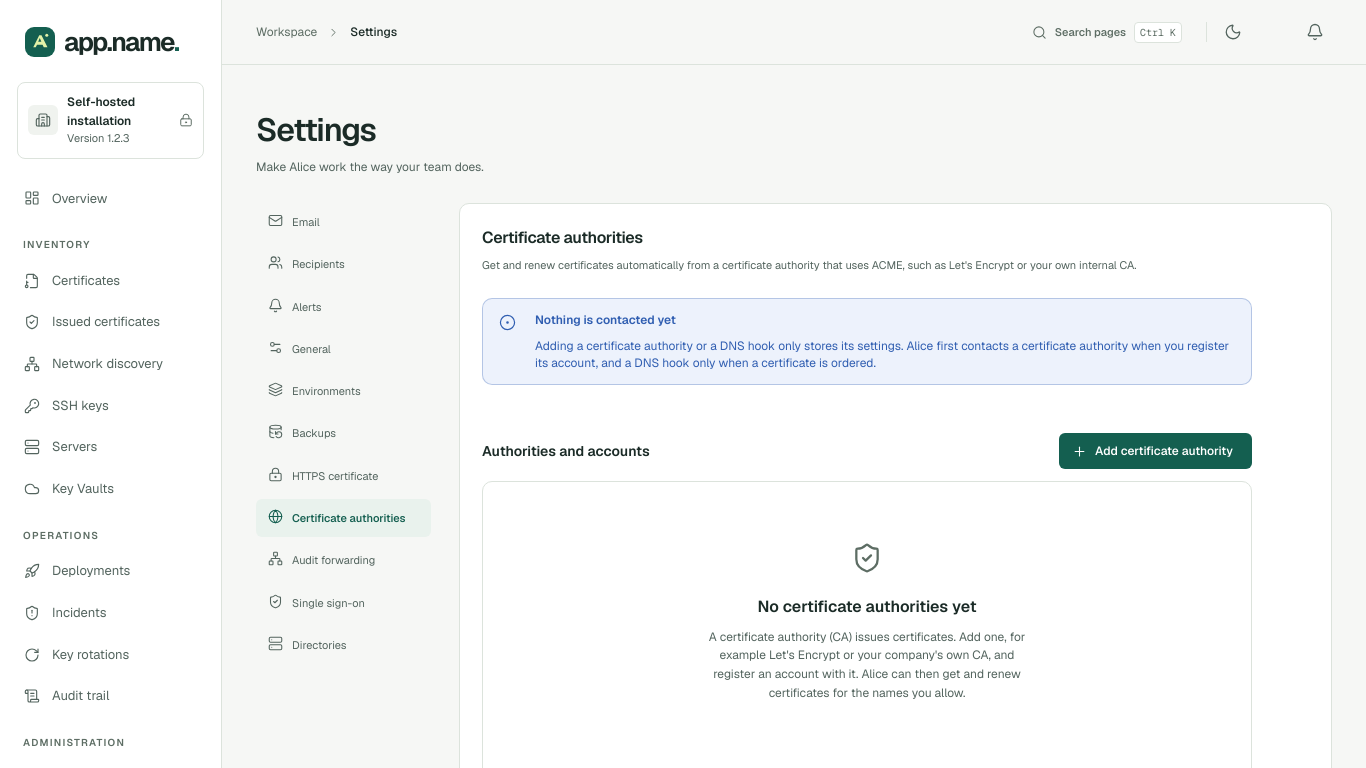
Test case: Certificate authorities settings › shows the refusal ALC-LIC-0001 of a save
Click the button "Add certificate authority" at [1156, 451], box left=1059, top=433, right=1252, bottom=469
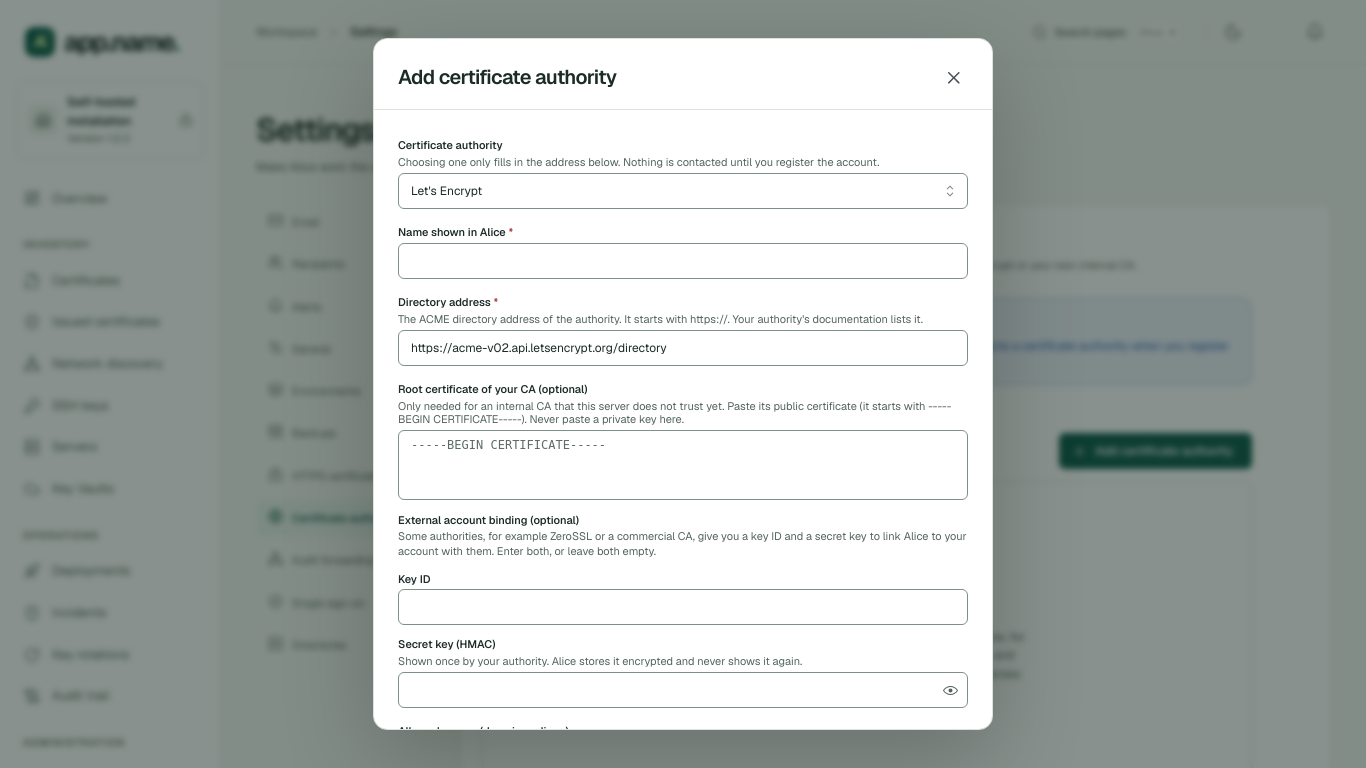
Type "X" into the field labelled "Name shown in Alice *" at [683, 261], box left=398, top=243, right=968, bottom=279
(page scrolled)
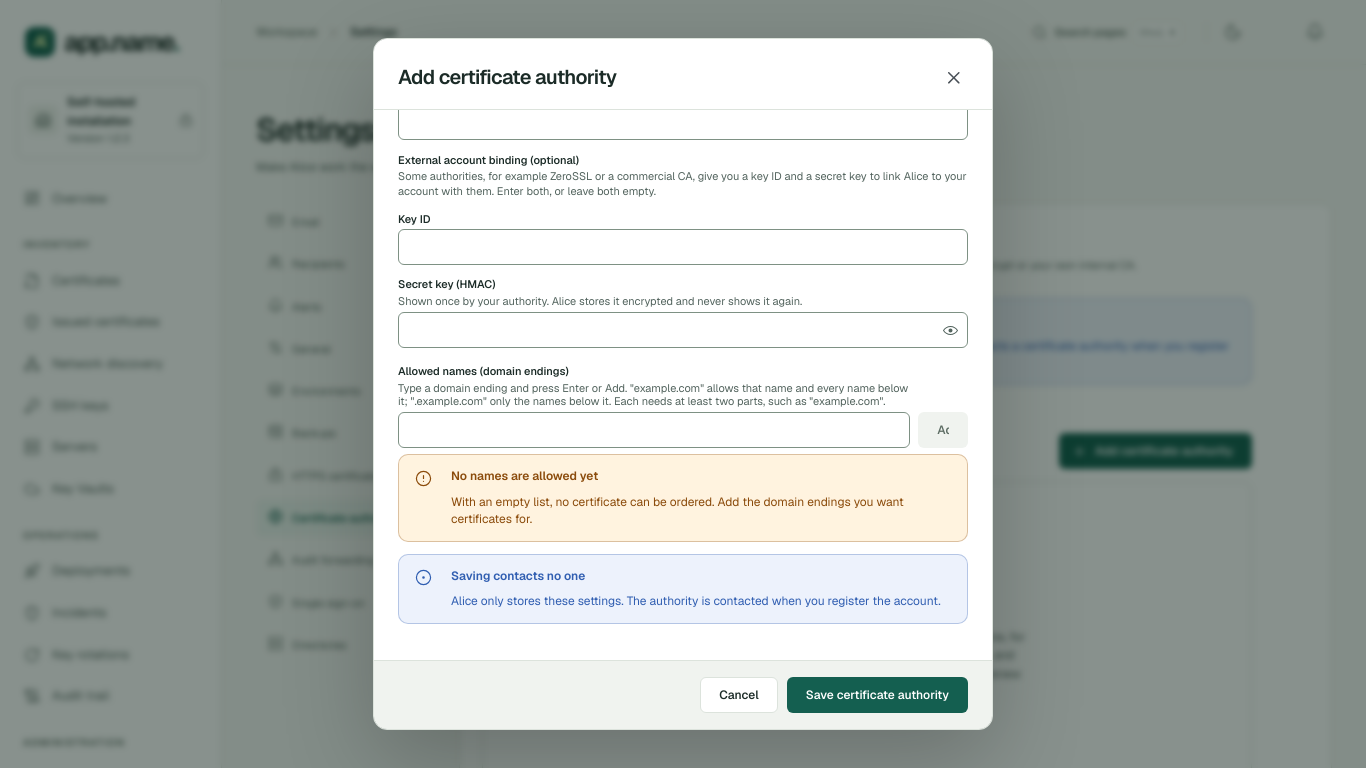
Click the button "Save certificate authority" at [877, 695], box left=787, top=677, right=968, bottom=713
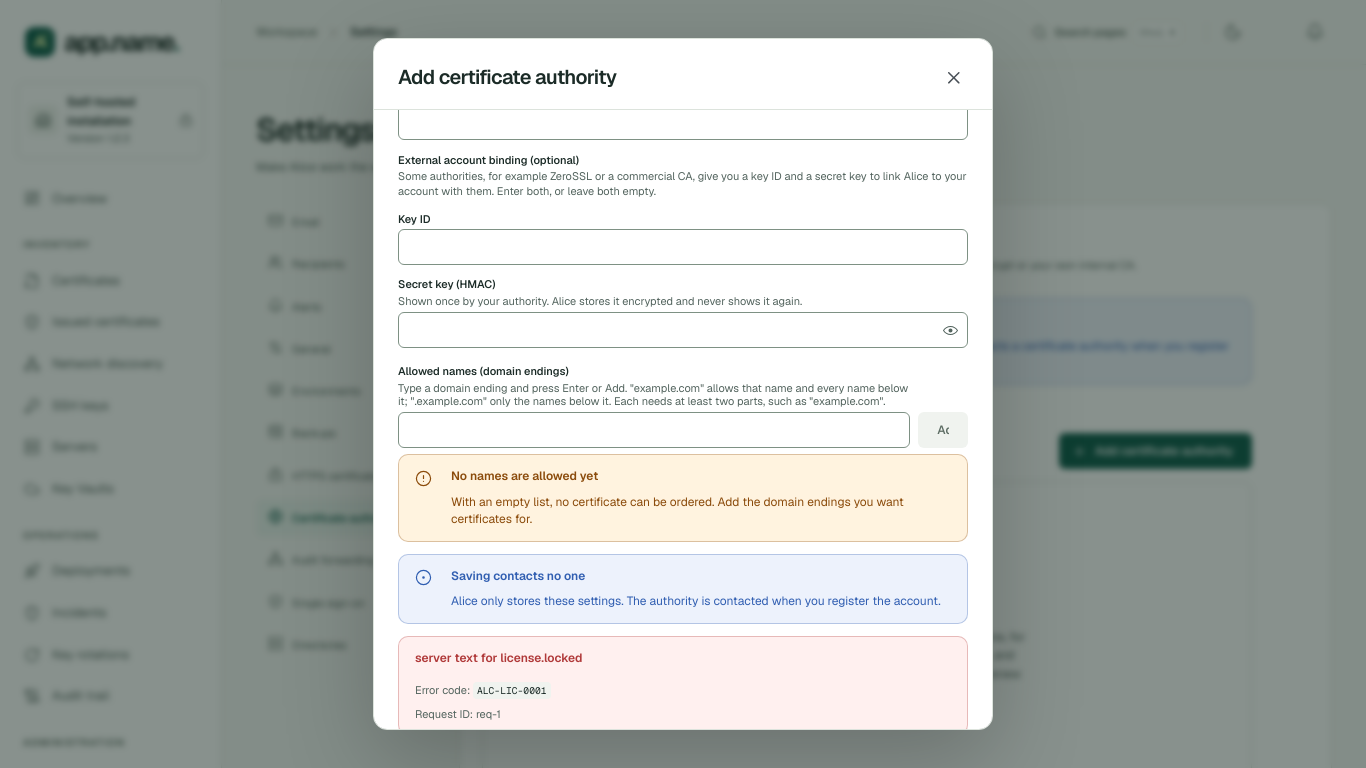
Check: the message shows "ALC-LIC-0001", box left=477, top=684, right=546, bottom=697
